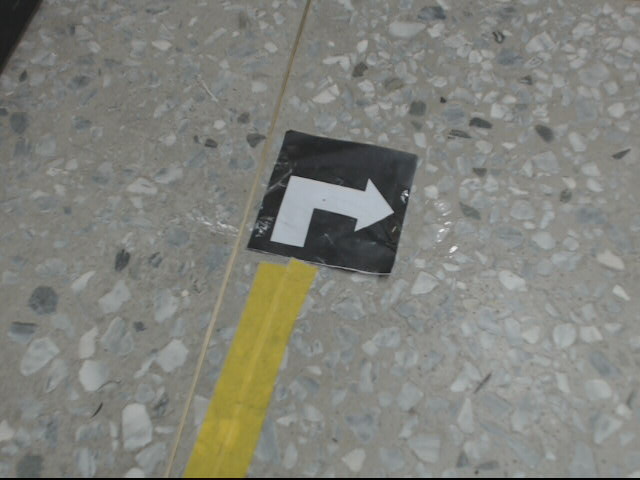right: (247, 128, 417, 277)
